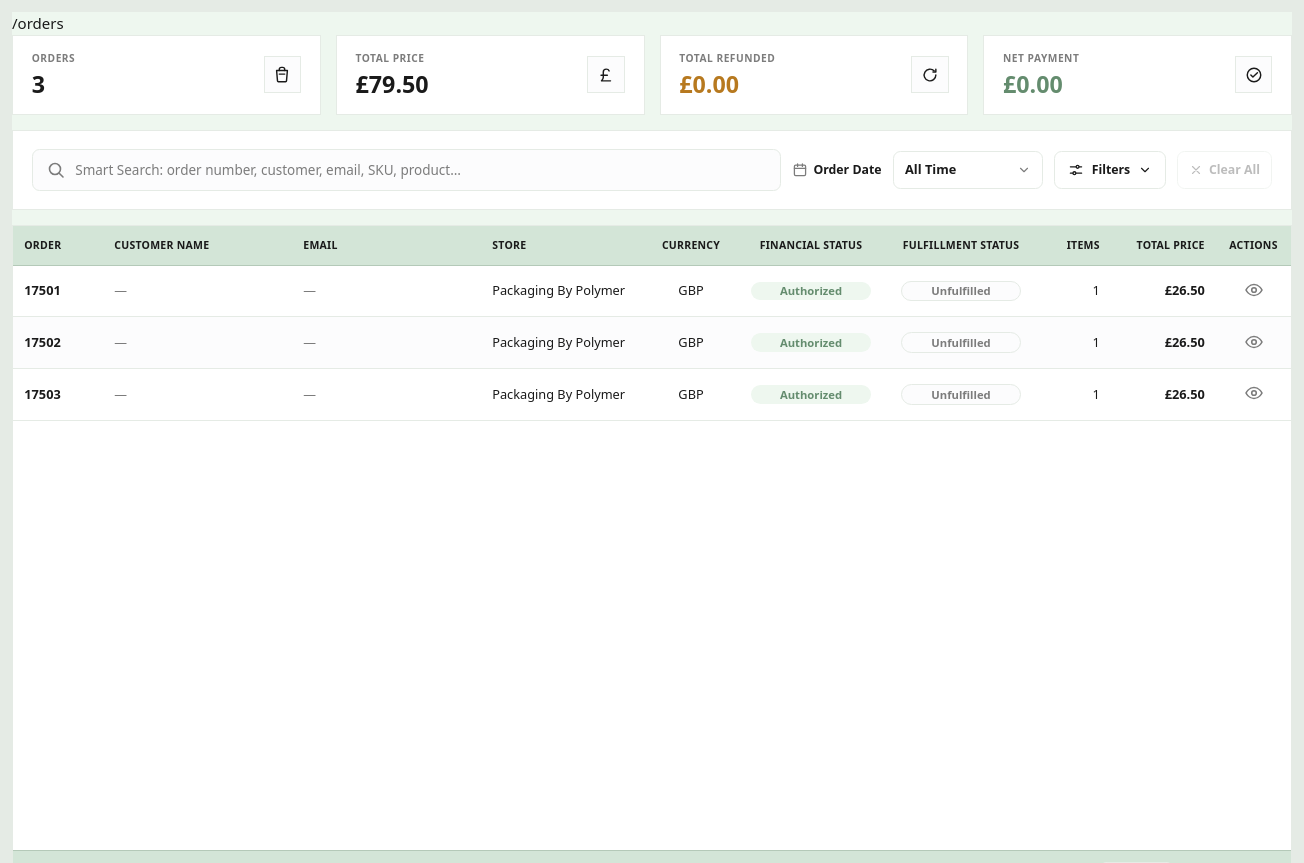
it: an order’s details page › opens from the eye button, at /orders/<number> for the order’s store, and hides the list
Expected: the text "17501" is shown, [24,281,61,299]
Click the button named "View order 17501": click(1254, 290) [1240,277,1267,303]
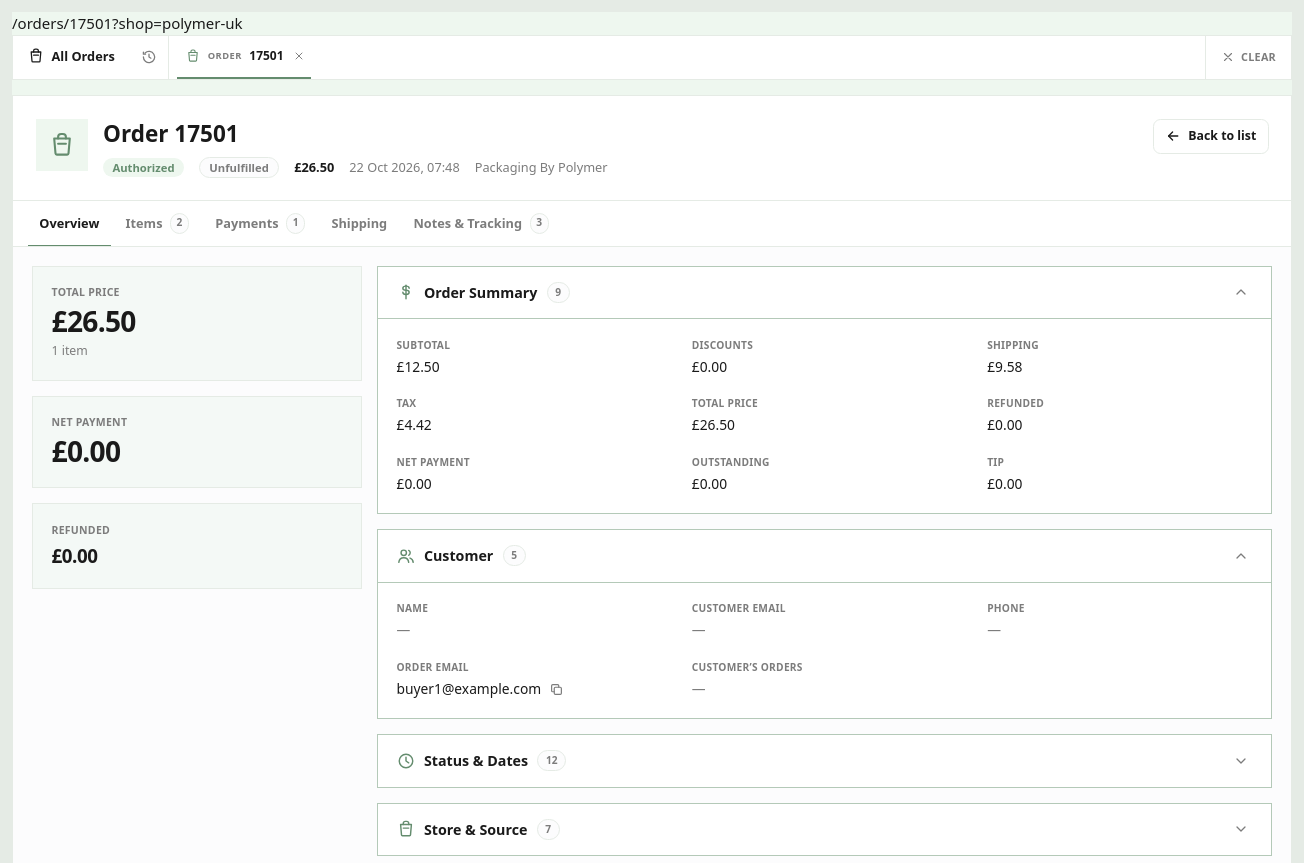
Result: the text with test id "where" reads "/orders/17501?shop=polymer-uk" at [12,13,243,33]
Result: the heading "Order 17501" is shown at [103,118,239,149]
